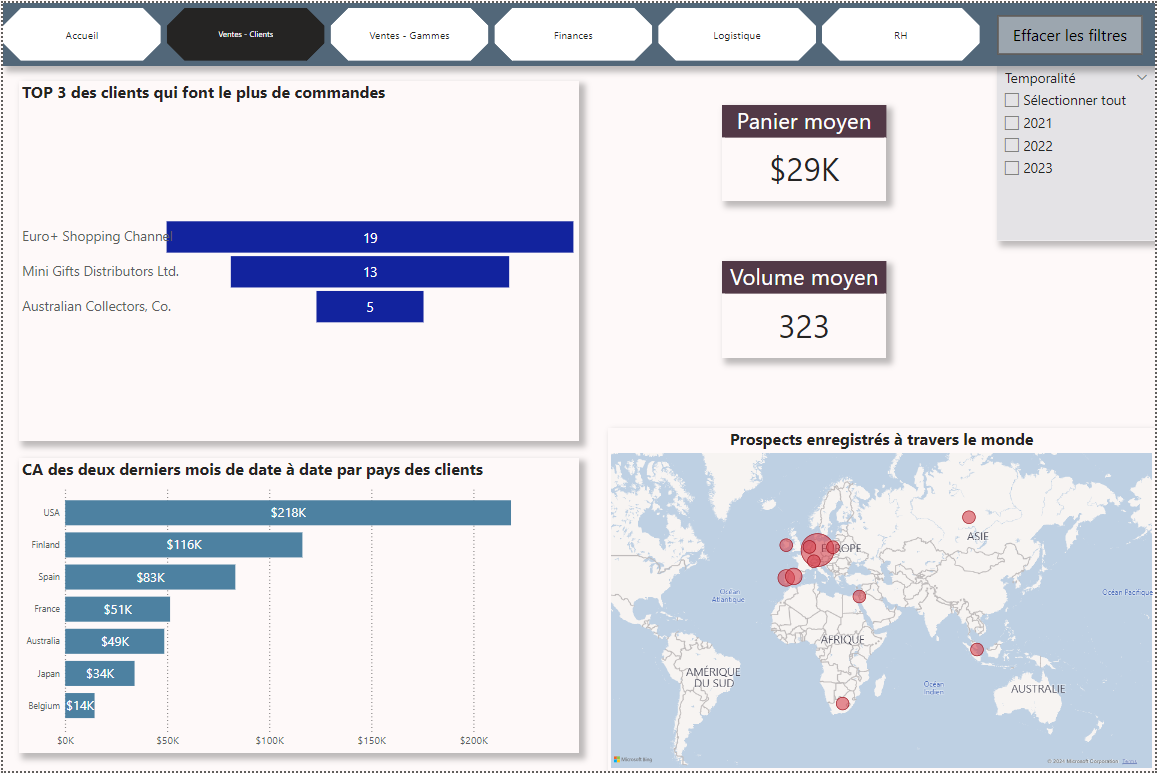

What the dashboard file says about the page in this screenshot:
{"tool":"powerbi","page":{"name":"Ventes - Clients","canvas":[1920,1280],"ordinal":1},"visuals":[{"type":"slicer","fields":{"Values":["Calendar.Full.Variation.Hiérarchie de dates.Année"]},"box":[1656.7,105,263.3,291],"z":0},{"type":"textbox","box":[0,0,1920,105],"z":2000},{"type":"pageNavigator","box":[0,8.3,1631.7,88.3],"z":3000},{"type":"actionButton","box":[1656.7,20,243.3,66.7],"z":4000},{"type":"clusteredBarChart","title":"CA des deux derniers mois de date à date par pays des clients","fields":{"Category":["toys_and_models customers.country"],"Y":["Sum(toys_and_models orderdetails.CA calculé)"]},"box":[26,758,934,492],"z":5000},{"type":"map","title":"Prospects enregistrés à travers le monde","fields":{"Category":["toys_and_models customers.country"],"Size":["CountNonNull(toys_and_models customers.country)"]},"box":[1008,708,912,572],"z":6000},{"type":"funnel","title":"TOP 3 des clients qui font le plus de commandes","fields":{"Category":["toys_and_models customers.customerName"],"Y":["Count(toys_and_models orderdetails.orderNumber)"]},"box":[26,130,934,600],"z":9000},{"type":"card","title":"Volume moyen","fields":{"Values":["toys_and_models orderdetails.moyenne nombre produit par commande"]},"box":[1198,430,274,162],"z":10000},{"type":"card","title":"Panier moyen","fields":{"Values":["toys_and_models orderdetails.panier moyen des commandes"]},"box":[1198.5,170.8,273.8,160],"z":11000}]}

Visuals, with their boxes in screenshot pixels (x1, y1, x2, y2), scaled from the page's 1920x1280 canvas onto the 1157x773 screenshot:
slicer - Calendar.Full.Variation.Hiérarchie de dates.Année: l=998, t=63, r=1156, b=239
textbox: l=0, t=0, r=1156, b=63
pageNavigator: l=0, t=5, r=983, b=58
actionButton: l=998, t=12, r=1145, b=52
"CA des deux derniers mois de date à date par pays des clients" clusteredBarChart: l=16, t=458, r=578, b=755
"Prospects enregistrés à travers le monde" map: l=607, t=428, r=1156, b=772
"TOP 3 des clients qui font le plus de commandes" funnel: l=16, t=79, r=578, b=441
"Volume moyen" card: l=722, t=260, r=887, b=358
"Panier moyen" card: l=722, t=103, r=887, b=200
